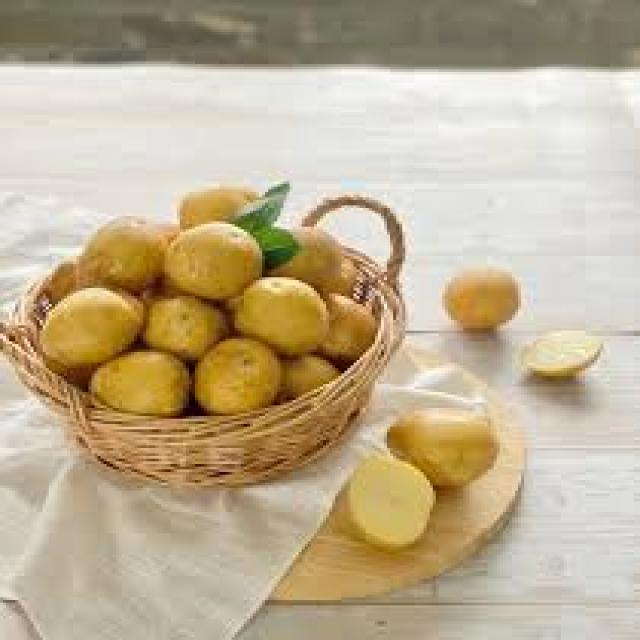Potato: (40, 288, 146, 368), (165, 224, 265, 301), (235, 276, 329, 356), (195, 339, 283, 416)
